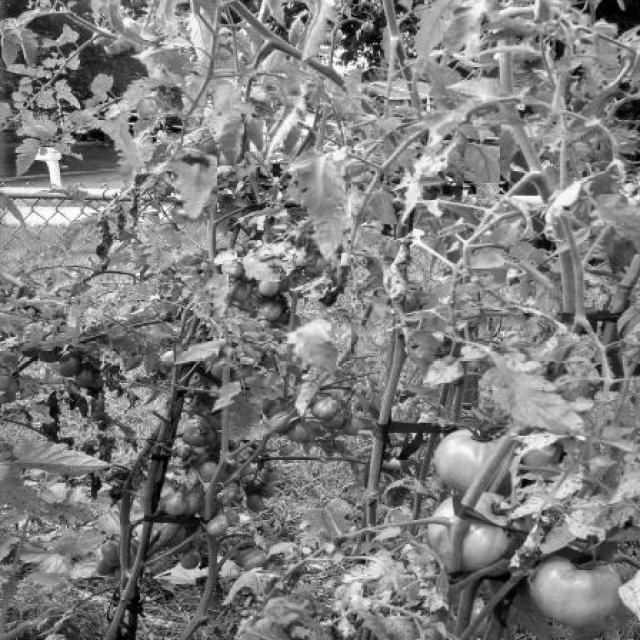Septoria: (479, 344, 594, 436), (296, 160, 350, 266), (278, 315, 338, 374), (588, 194, 640, 254), (175, 149, 218, 221), (261, 595, 322, 640), (603, 451, 640, 506), (228, 392, 263, 439), (464, 143, 500, 183), (175, 339, 231, 364), (217, 117, 244, 166), (423, 354, 464, 384), (212, 82, 242, 120), (210, 378, 241, 413), (204, 274, 229, 317), (242, 256, 282, 281), (244, 376, 286, 399), (367, 192, 397, 224), (364, 294, 392, 327), (246, 117, 265, 152), (470, 254, 504, 269)
